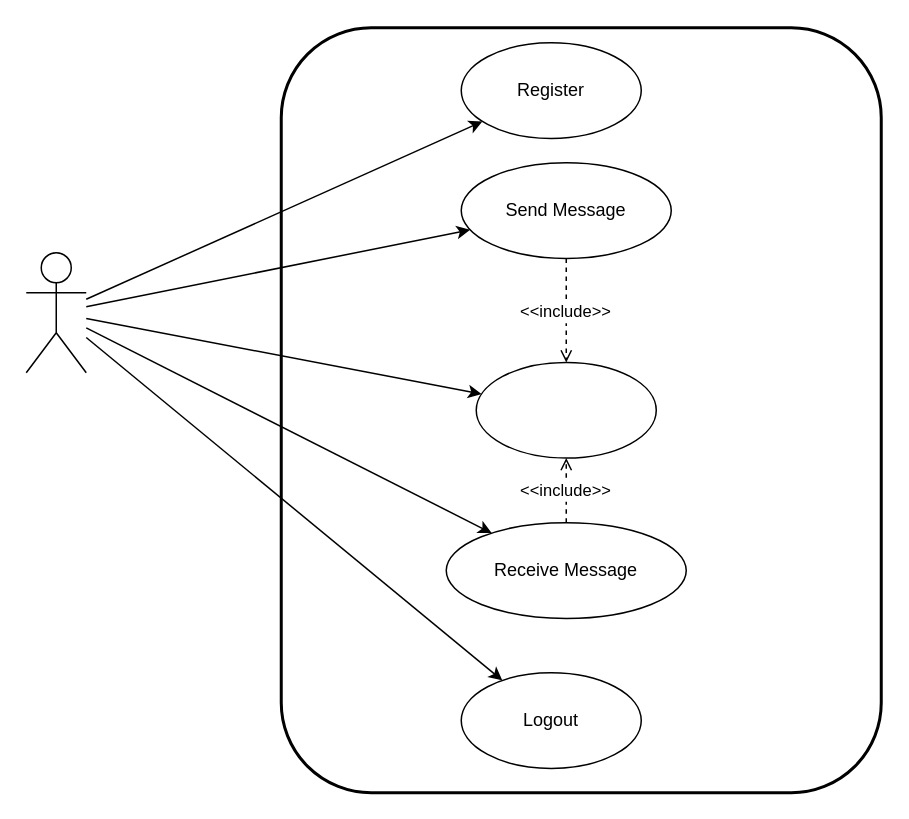
Some shapes in this 909 by 819 pixel diagram are drawn without their labels. Each missing label, with the centre of its shape:
"Login" goes at point 565,409.
"User" goes at point 55,312.
